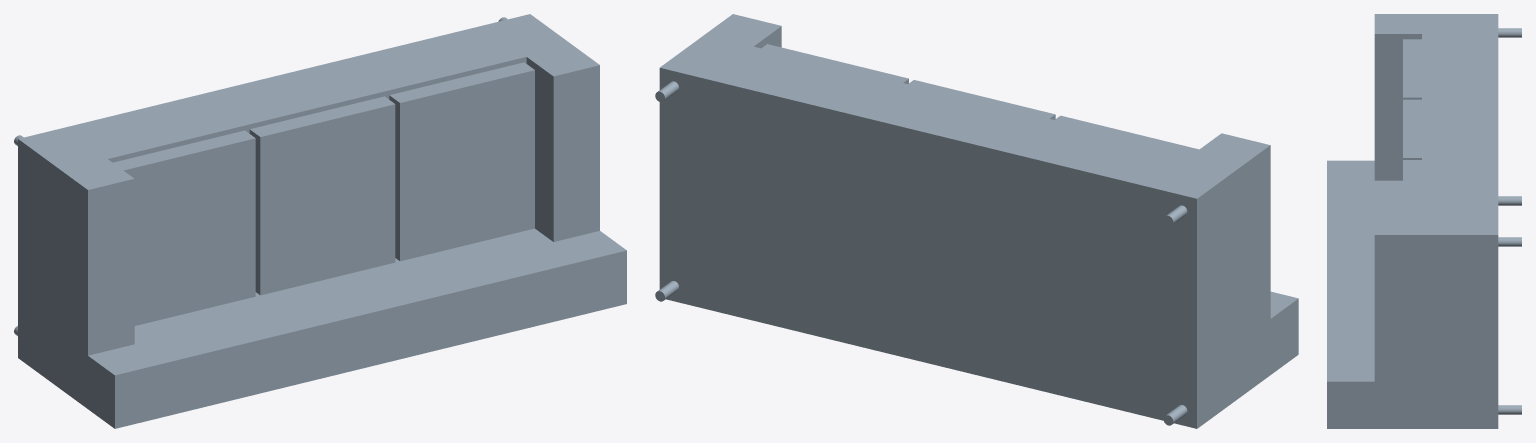
Rendered from sofa.glb.
The picture shows the model from 3 angles, left to right: view 1: azimuth 30°, elevation 25°; view 2: azimuth 150°, elevation 25°; view 3: azimuth 270°, elevation 25°; orthographic projection. The views are drawn at different scales.
Visible parts, largest first — view 1: sofa; view 2: sofa; view 3: sofa.
Part boxes in pixels (x1,y1,x2,y2): sofa: (14,14,626,428); sofa: (655,14,1298,428); sofa: (1327,14,1521,428).
Size of the model in its own units: 2200 by 900 by 820.
